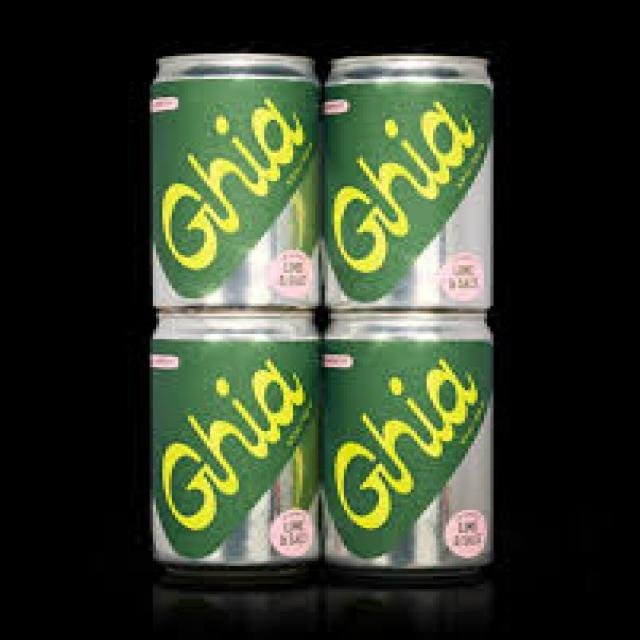Cans: (124, 311, 322, 579), (140, 43, 328, 314), (315, 311, 506, 574), (312, 54, 503, 311)
